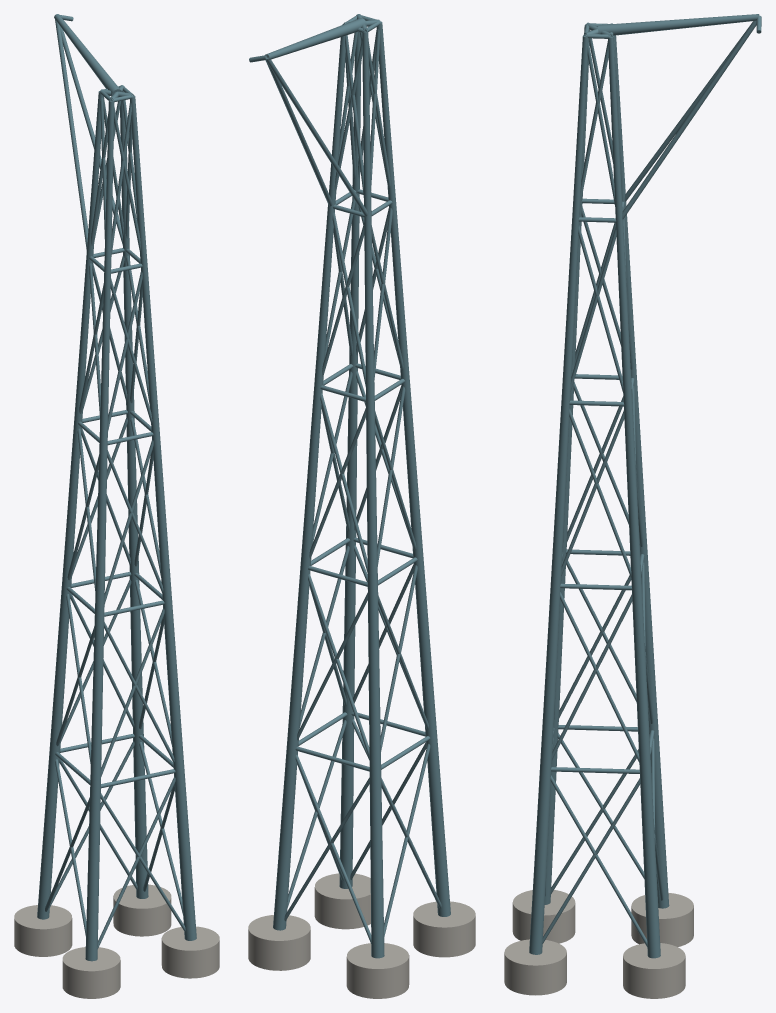
The model's file is REVIEW_AdaptiveTower_Saved072.glb.
3 views of the same model, side by side, from view 1: azimuth 30°, elevation 25°; view 2: azimuth 150°, elevation 25°; view 3: azimuth 270°, elevation 25° (orthographic). The views are drawn at different scales.
Parts seen in each view (by area): view 1: VC_ENVKIT_Tower_Member_002, VC_ENVKIT_Tower_Member_001, VC_ENVKIT_Tower_Member_003, VC_ENVKIT_Tower_Member_000, VC_ENVKIT_Tower_Member_012, VC_ENVKIT_Tower_Member_008, VC_ENVKIT_Tower_Member_016, VC_ENVKIT_Tower_Member_028, VC_ENVKIT_Tower_Member_024, VC_ENVKIT_Tower_Member_032, VC_ENVKIT_Tower_Member_004, VC_ENVKIT_Tower_Member_044 (+38 smaller); view 2: VC_ENVKIT_Tower_Member_003, VC_ENVKIT_Tower_Member_002, VC_ENVKIT_Tower_Member_000, VC_ENVKIT_Tower_Member_001, VC_ENVKIT_Tower_Member_016, VC_ENVKIT_Tower_Member_004, VC_ENVKIT_Tower_Member_012, VC_ENVKIT_Tower_Member_032, VC_ENVKIT_Tower_Member_020, VC_ENVKIT_Tower_Member_028, VC_ENVKIT_Tower_Member_008, VC_ENVKIT_Tower_Member_048 (+40 smaller); view 3: VC_ENVKIT_Tower_Member_001, VC_ENVKIT_Tower_Member_000, VC_ENVKIT_Tower_Member_008, VC_ENVKIT_Tower_Member_004, VC_ENVKIT_Tower_Member_002, VC_ENVKIT_Tower_Member_003, VC_ENVKIT_Tower_Member_020, VC_ENVKIT_Tower_Member_024, VC_ENVKIT_Tower_Member_036, VC_ENVKIT_Tower_Member_040, VC_ENVKIT_Tower_Member_052, VC_ENVKIT_Tower_Member_056 (+27 smaller).
Boxes of the visible parts, x1=… form: VC_ENVKIT_Tower_Member_002: x1=62, y1=947, x2=120, y2=998; VC_ENVKIT_Tower_Member_001: x1=161, y1=926, x2=219, y2=978; VC_ENVKIT_Tower_Member_003: x1=14, y1=905, x2=72, y2=956; VC_ENVKIT_Tower_Member_000: x1=113, y1=884, x2=171, y2=936; VC_ENVKIT_Tower_Member_012: x1=85, y1=787, x2=100, y2=961; VC_ENVKIT_Tower_Member_008: x1=174, y1=770, x2=196, y2=940; VC_ENVKIT_Tower_Member_016: x1=37, y1=752, x2=59, y2=919; VC_ENVKIT_Tower_Member_028: x1=90, y1=616, x2=104, y2=789; VC_ENVKIT_Tower_Member_024: x1=163, y1=602, x2=184, y2=772; VC_ENVKIT_Tower_Member_032: x1=49, y1=587, x2=70, y2=754; VC_ENVKIT_Tower_Member_004: x1=133, y1=735, x2=148, y2=898; VC_ENVKIT_Tower_Member_044: x1=95, y1=444, x2=107, y2=617; VC_ENVKIT_Tower_Member_003: x1=346, y1=943, x2=409, y2=998; VC_ENVKIT_Tower_Member_002: x1=413, y1=901, x2=475, y2=957; VC_ENVKIT_Tower_Member_000: x1=248, y1=915, x2=310, y2=970; VC_ENVKIT_Tower_Member_001: x1=314, y1=873, x2=370, y2=929; VC_ENVKIT_Tower_Member_016: x1=369, y1=771, x2=384, y2=958; VC_ENVKIT_Tower_Member_004: x1=273, y1=747, x2=297, y2=930; VC_ENVKIT_Tower_Member_012: x1=426, y1=736, x2=450, y2=916; VC_ENVKIT_Tower_Member_032: x1=367, y1=586, x2=381, y2=772; VC_ENVKIT_Tower_Member_020: x1=286, y1=567, x2=310, y2=749; VC_ENVKIT_Tower_Member_028: x1=413, y1=558, x2=437, y2=738; VC_ENVKIT_Tower_Member_008: x1=339, y1=715, x2=354, y2=888; VC_ENVKIT_Tower_Member_048: x1=366, y1=401, x2=377, y2=587; VC_ENVKIT_Tower_Member_001: x1=504, y1=939, x2=566, y2=995; VC_ENVKIT_Tower_Member_000: x1=623, y1=943, x2=685, y2=998; VC_ENVKIT_Tower_Member_008: x1=529, y1=769, x2=551, y2=954; VC_ENVKIT_Tower_Member_004: x1=640, y1=772, x2=660, y2=958; VC_ENVKIT_Tower_Member_002: x1=512, y1=890, x2=575, y2=943; VC_ENVKIT_Tower_Member_003: x1=631, y1=892, x2=693, y2=946; VC_ENVKIT_Tower_Member_020: x1=632, y1=589, x2=651, y2=774; VC_ENVKIT_Tower_Member_024: x1=540, y1=586, x2=560, y2=771; VC_ENVKIT_Tower_Member_036: x1=624, y1=405, x2=641, y2=590; VC_ENVKIT_Tower_Member_040: x1=550, y1=403, x2=569, y2=587; VC_ENVKIT_Tower_Member_052: x1=616, y1=221, x2=632, y2=405; VC_ENVKIT_Tower_Member_056: x1=561, y1=219, x2=579, y2=404.
Size of the model in its own units: 14 by 77.59 by 18.99.
